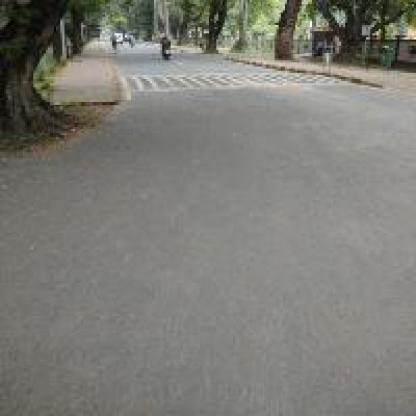Speed Bump: (122, 68, 354, 96)
